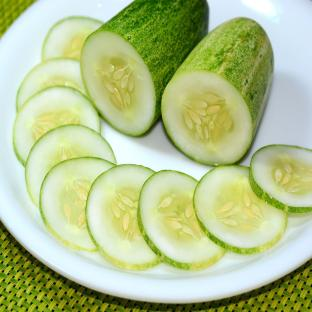Cucumber: (81, 0, 207, 135), (162, 18, 273, 164), (138, 171, 225, 269), (194, 166, 287, 253), (86, 165, 161, 269), (26, 125, 115, 206), (40, 157, 114, 251), (14, 87, 100, 165), (250, 145, 311, 212), (17, 58, 86, 110), (43, 17, 103, 60)
